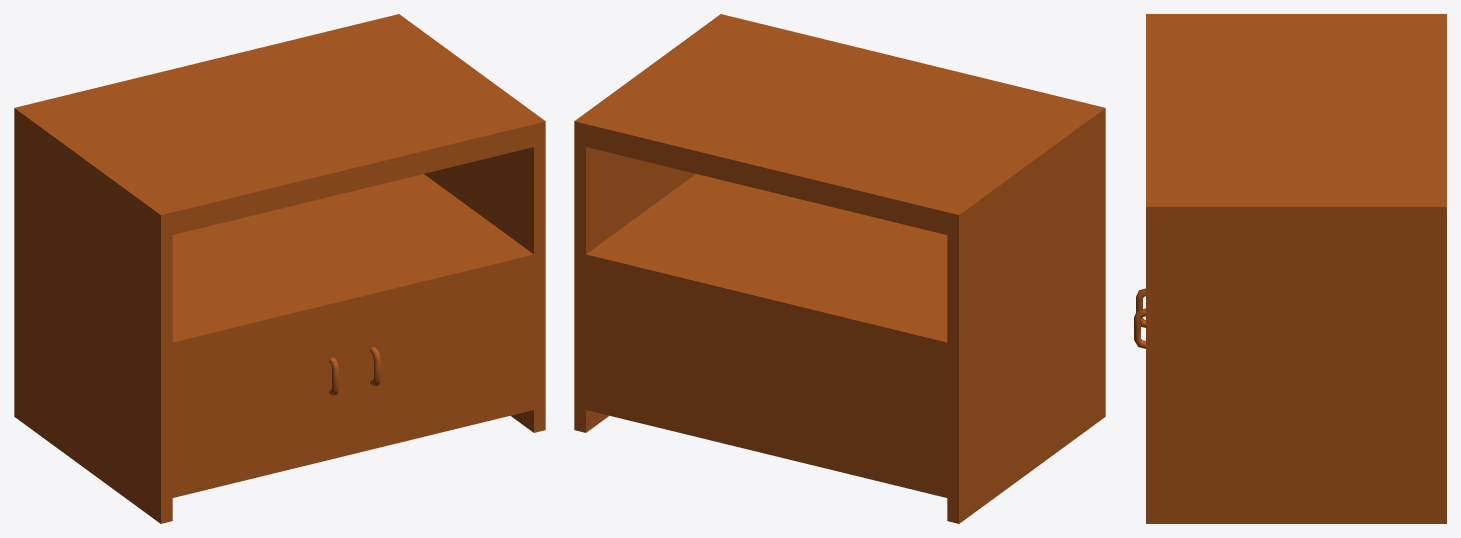
File: tvshelf_uv.fbx
3 views of the same model, side by side, from view 1: azimuth 30°, elevation 25°; view 2: azimuth 150°, elevation 25°; view 3: azimuth 270°, elevation 25° (orthographic). The views are drawn at different scales.
Parts seen in each view (by area): view 1: Cylinder003; view 2: Cylinder003; view 3: Cylinder003.
Boxes of the visible parts, bbox=[...] form: Cylinder003: bbox=[14, 14, 545, 523]; Cylinder003: bbox=[574, 14, 1105, 523]; Cylinder003: bbox=[1134, 14, 1446, 523].
Size of the model in its own units: 96.4 by 73.9 by 66.09.
